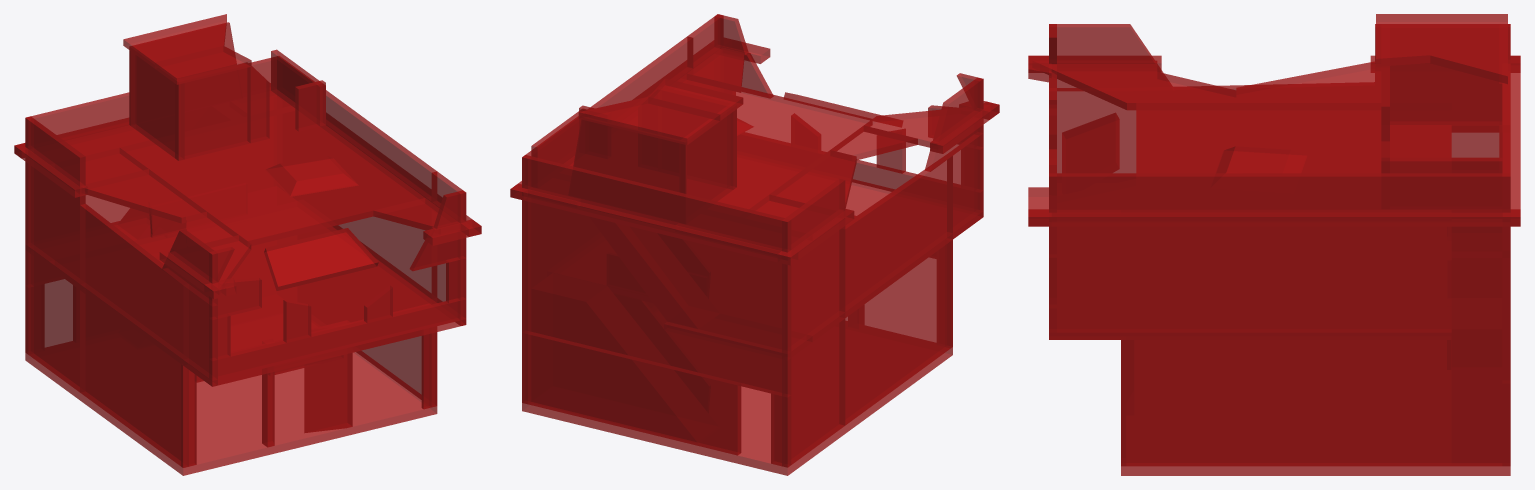
File: SM_Bld_Shop_11_Destroyed_Collision.fbx
3 renders of one model, left to right at view 1: azimuth 30°, elevation 25°; view 2: azimuth 150°, elevation 25°; view 3: azimuth 270°, elevation 25°, orthographic. The views are drawn at different scales.
Visible parts, largest first — view 1: SM_Bld_Shop_11_Destroyed_Collision; view 2: SM_Bld_Shop_11_Destroyed_Collision; view 3: SM_Bld_Shop_11_Destroyed_Collision.
Boxes of the visible parts, left/top/right/bottom form: SM_Bld_Shop_11_Destroyed_Collision: left=14, top=14, right=481, bottom=475; SM_Bld_Shop_11_Destroyed_Collision: left=510, top=14, right=999, bottom=475; SM_Bld_Shop_11_Destroyed_Collision: left=1028, top=14, right=1520, bottom=475.
Bounding box in the file's own units: 945 × 1005 × 1220.
